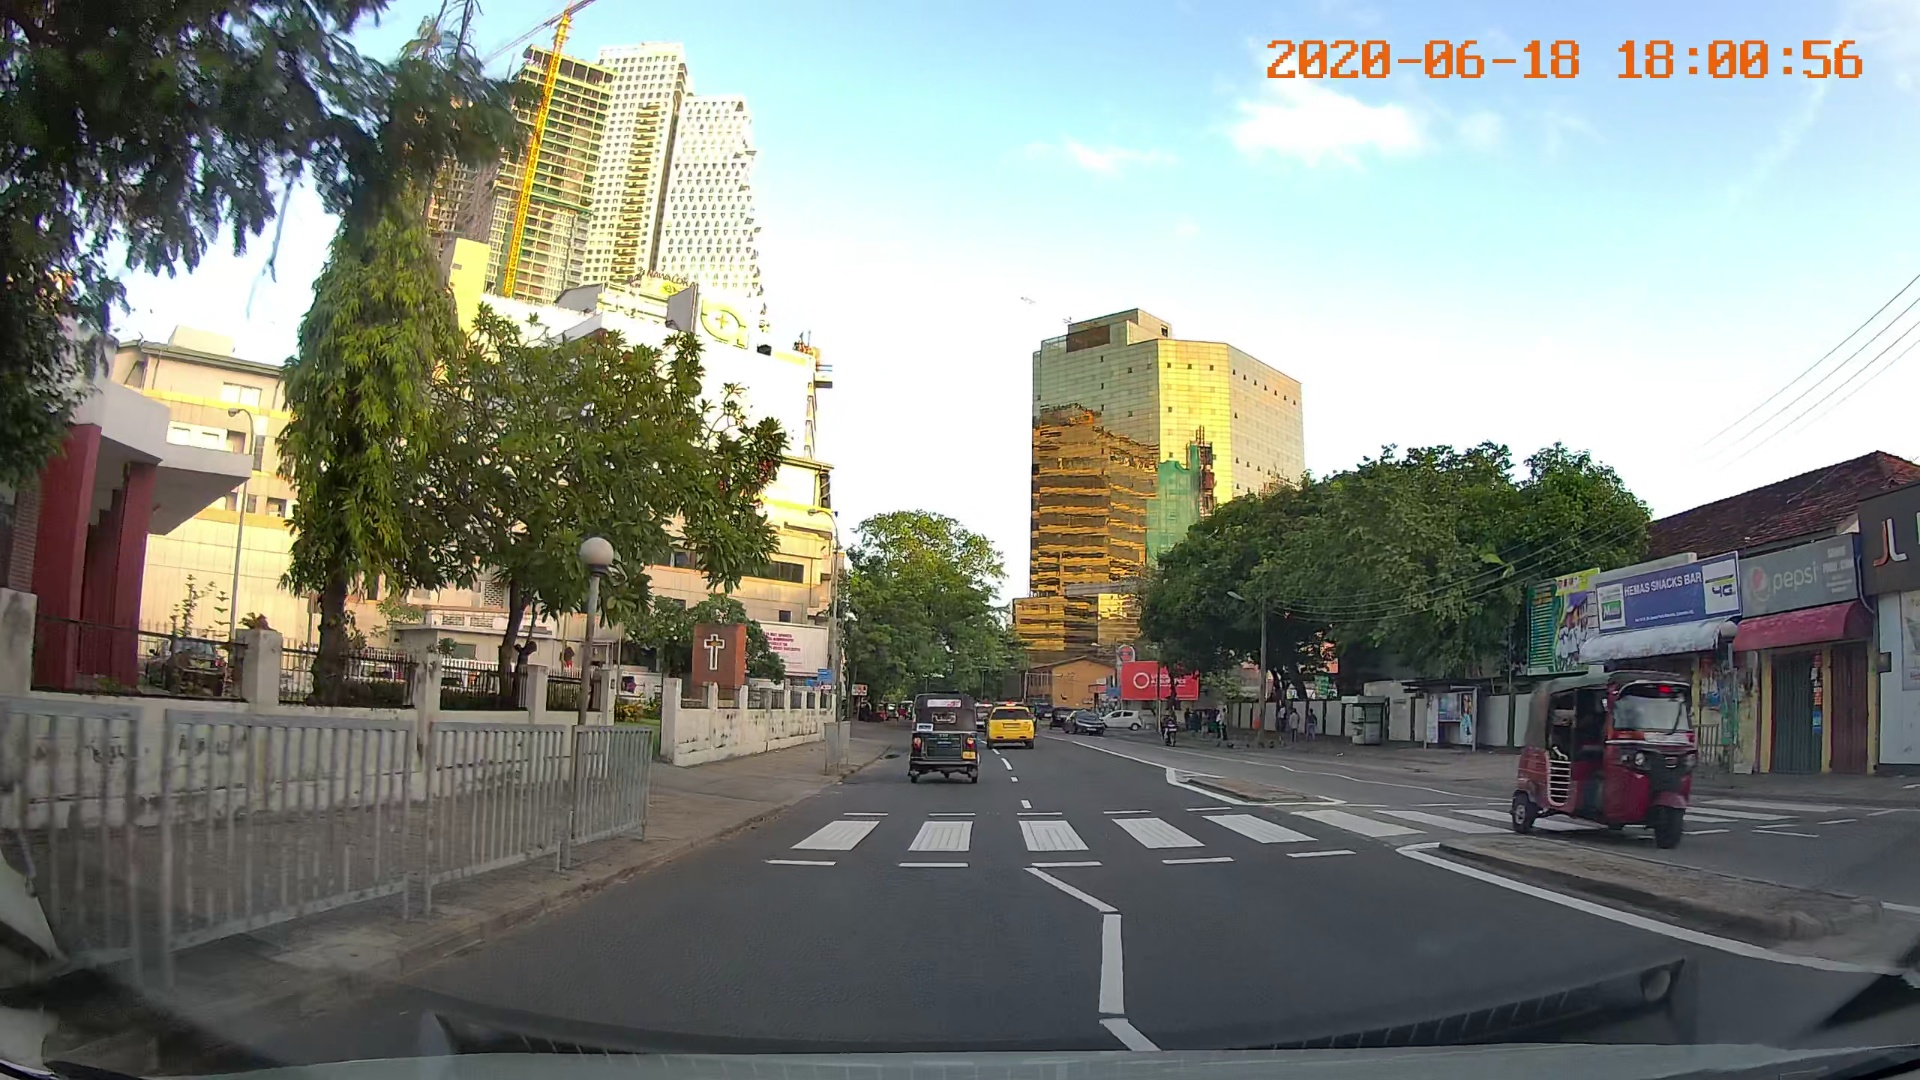crossing: (750, 791, 1884, 866)
